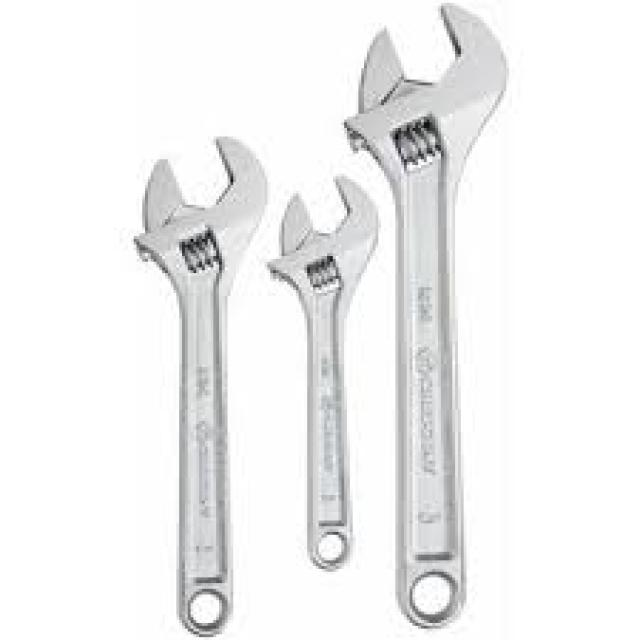wrench: (337, 5, 516, 640), (117, 130, 279, 640), (264, 168, 382, 575)
